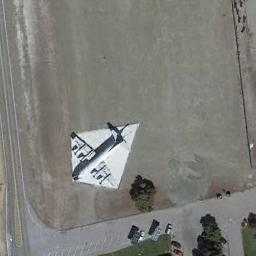Airplane: (68, 122, 136, 190)
